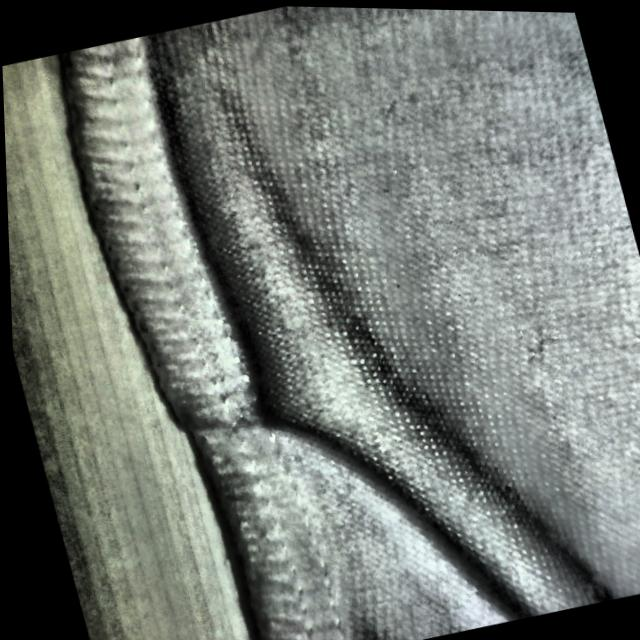seam: (127, 251, 431, 533)
